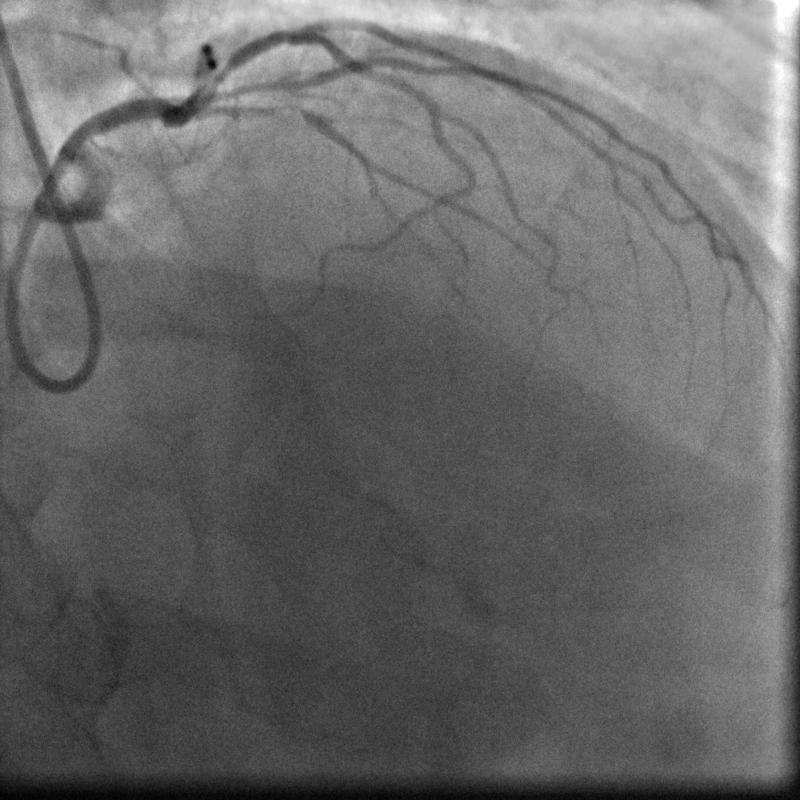Stenosis: (203, 61, 236, 91)
